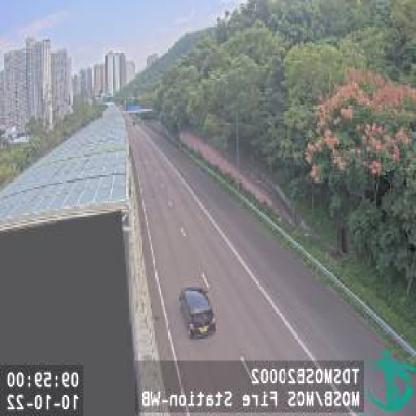Car: (179, 284, 217, 338)
